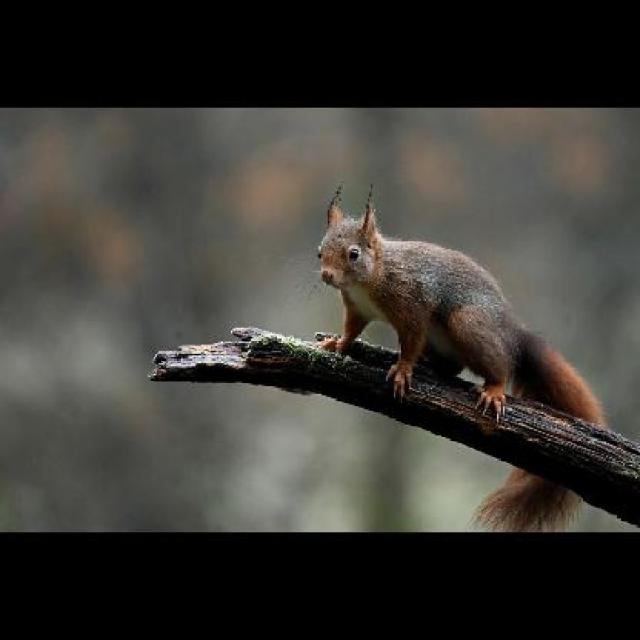unauthorized: (312, 182, 608, 530)
